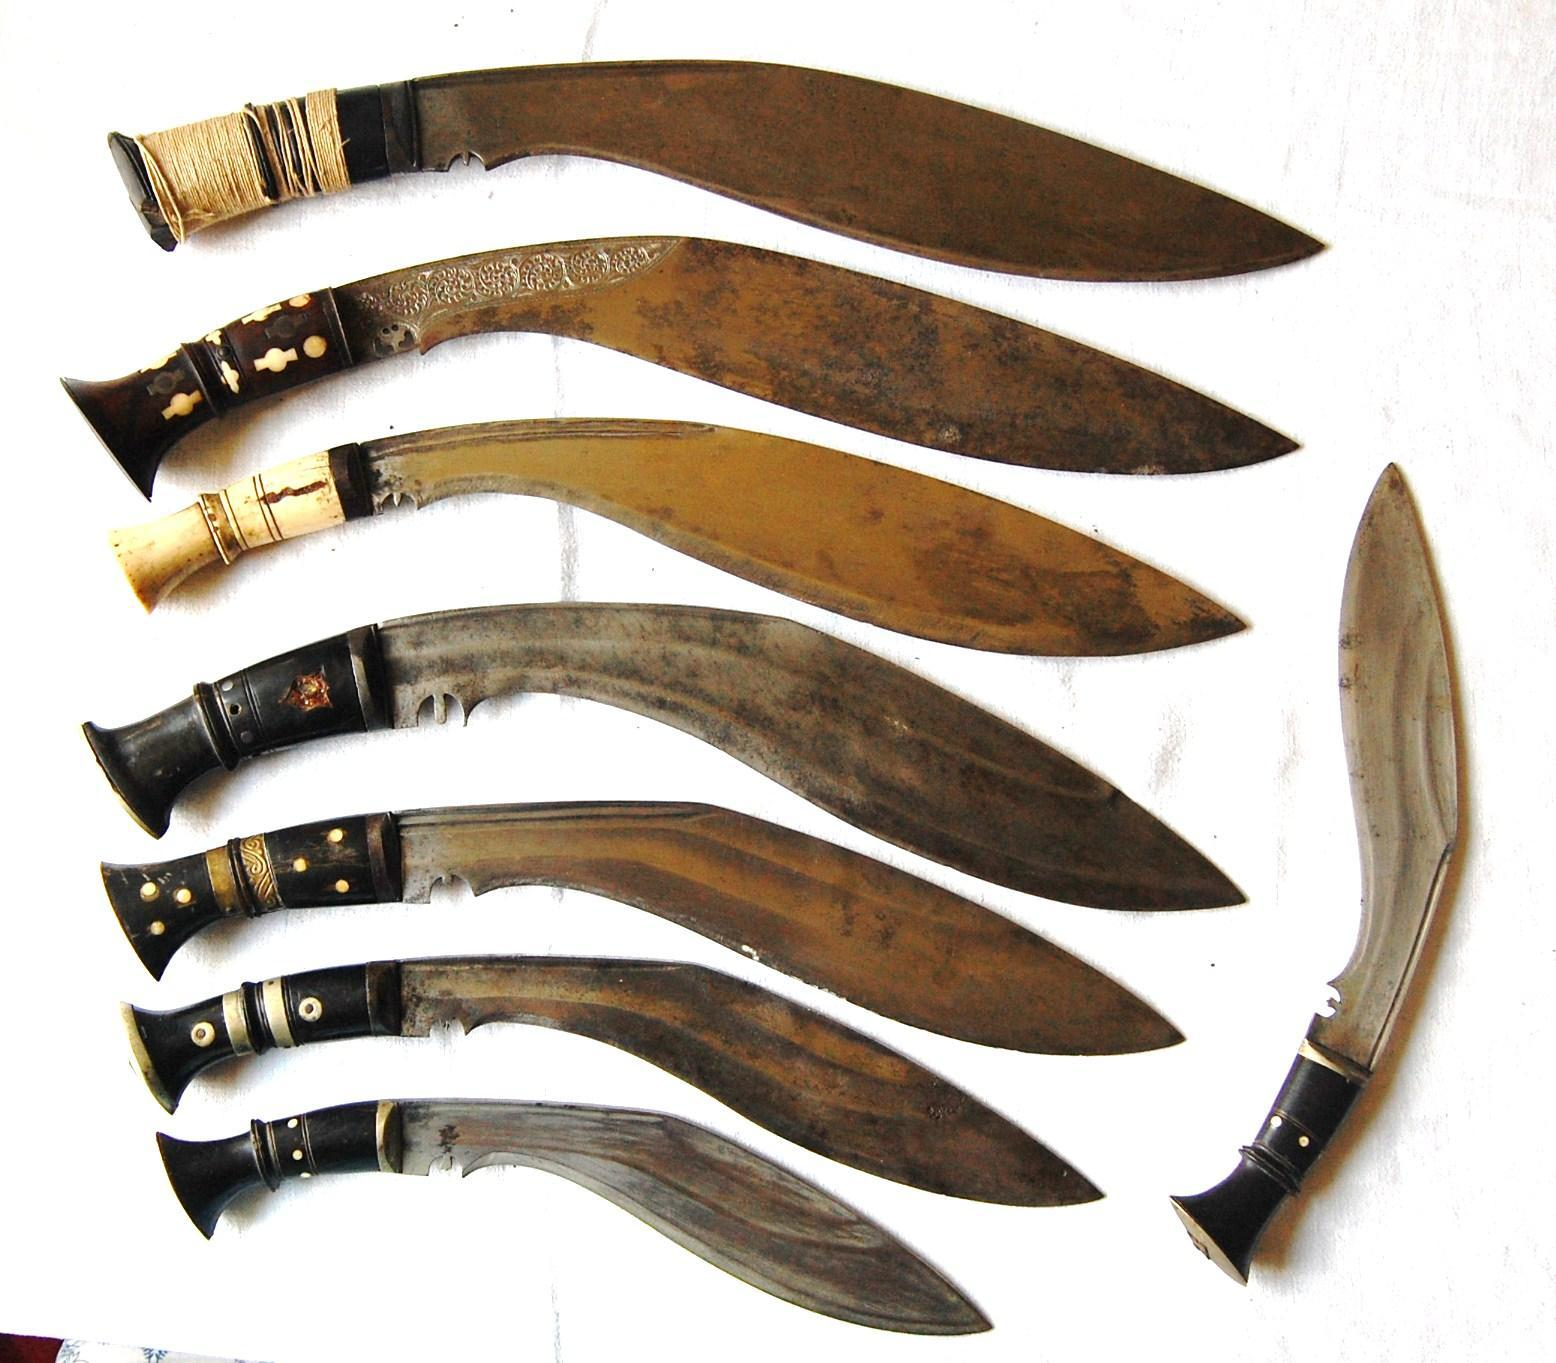facao: (83, 603, 1241, 910), (64, 236, 1295, 498), (101, 803, 1182, 1055), (110, 419, 1244, 655), (108, 62, 1324, 281), (123, 957, 1093, 1206), (1174, 466, 1457, 1284), (156, 1101, 990, 1334)
